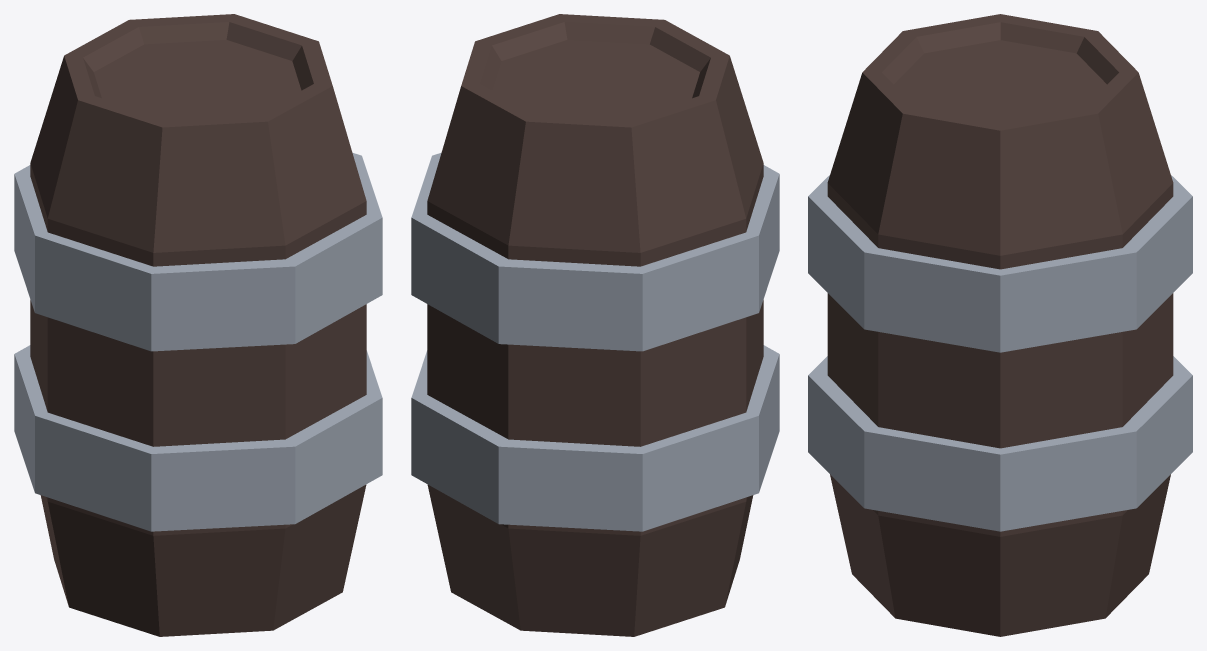
Rendered from wujian03.FBX.
3 views of the same model, side by side, from view 1: azimuth 30°, elevation 25°; view 2: azimuth 150°, elevation 25°; view 3: azimuth 270°, elevation 25° (orthographic).
Bounding box in the file's own units: 146 × 216 × 150.
